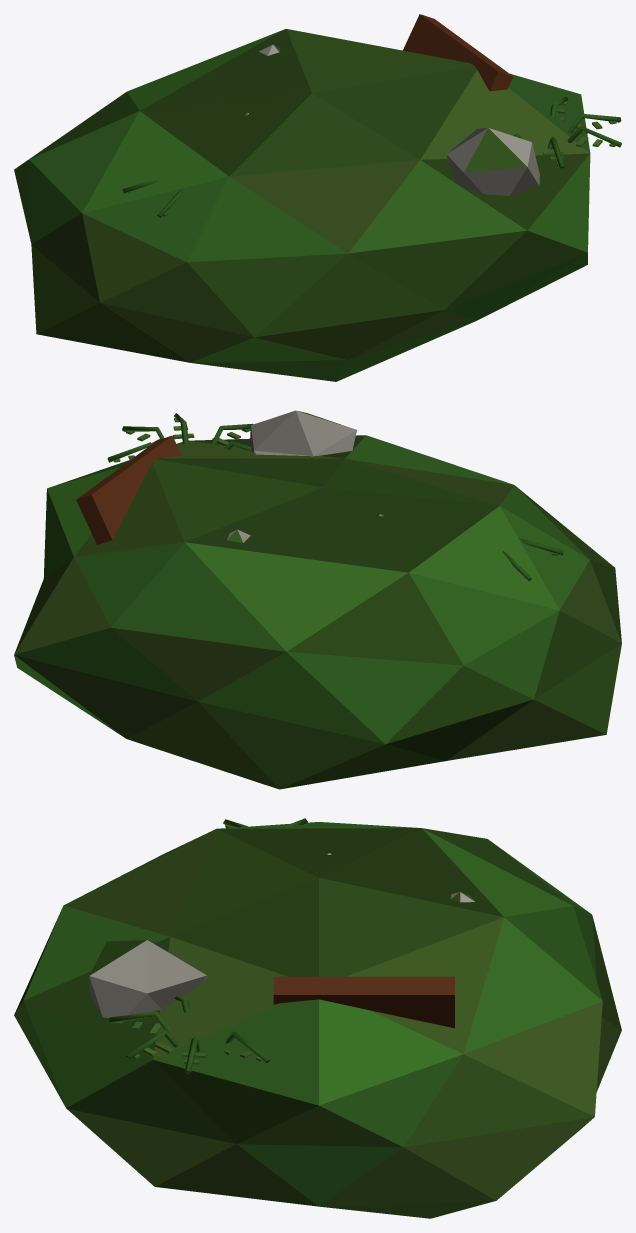
The model's file is moss_mound.glb.
The picture shows the model from 3 angles, top to bottom: view 1: azimuth 30°, elevation 25°; view 2: azimuth 150°, elevation 25°; view 3: azimuth 270°, elevation 25°; orthographic projection. The views are drawn at different scales.
Visible parts, largest first — view 1: Mesh; view 2: Mesh; view 3: Mesh.
Part boxes in pixels (box(x1,y1,x2,y2)): Mesh: box(14, 14, 621, 381); Mesh: box(14, 410, 621, 789); Mesh: box(14, 818, 621, 1218).
Bounding box in the file's own units: 3.19 × 1.31 × 2.68.
